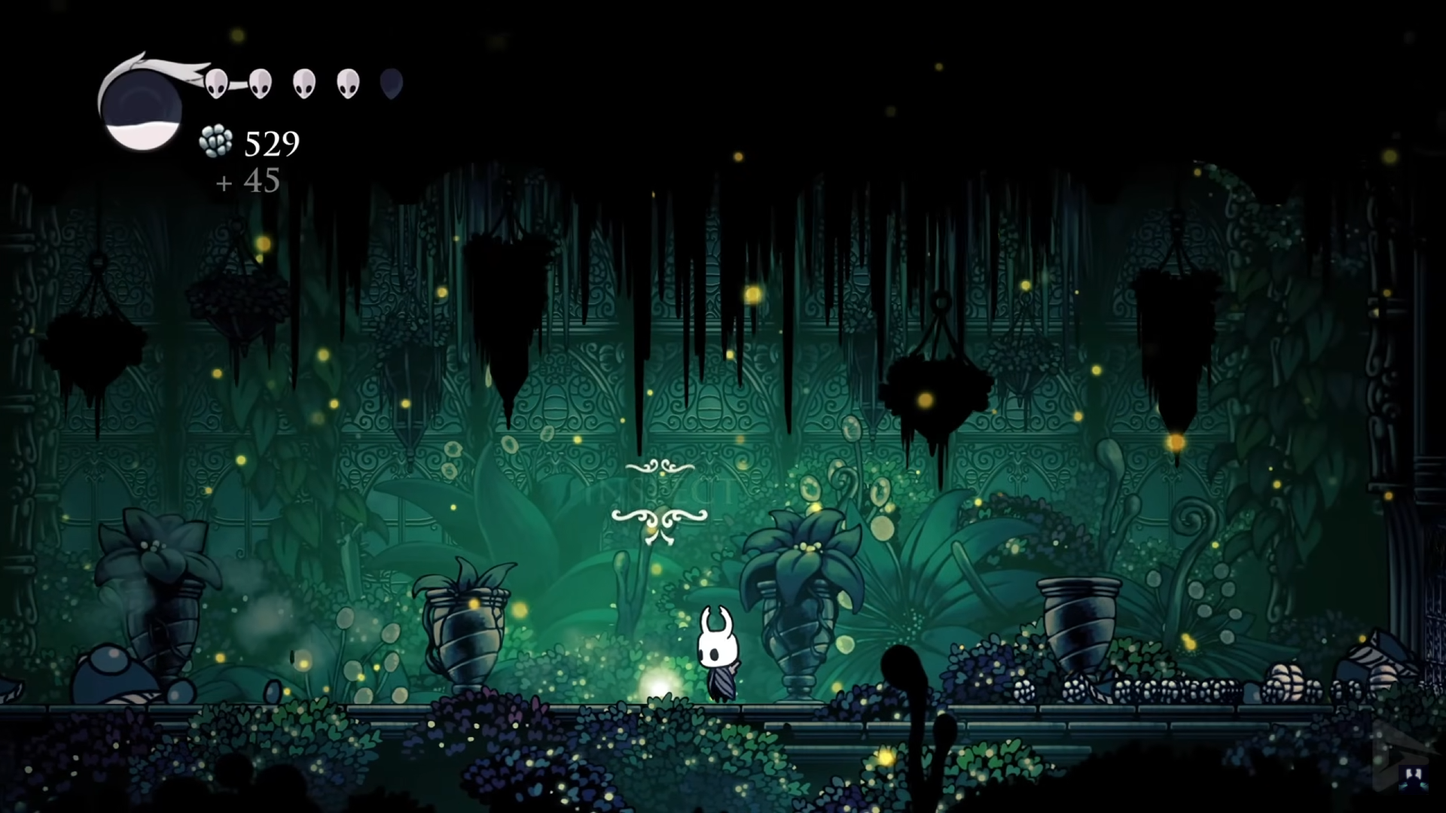HK: (687, 603, 746, 702)
